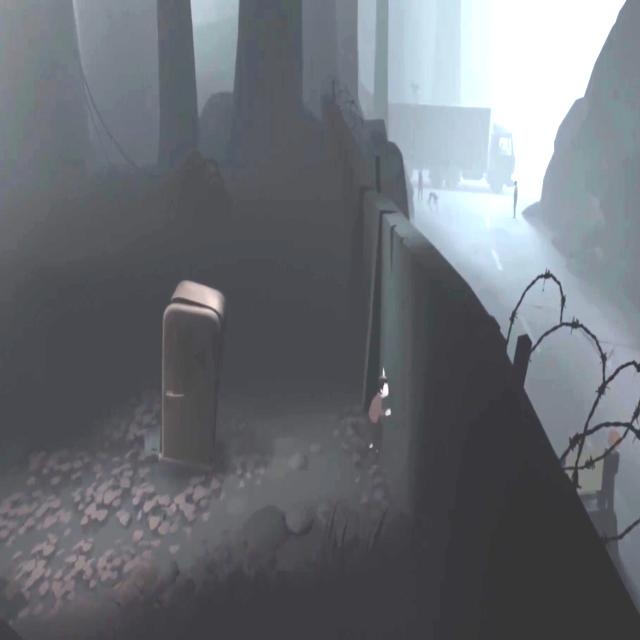boy: (365, 376, 390, 455)
human: (512, 179, 518, 218), (417, 167, 423, 201)
